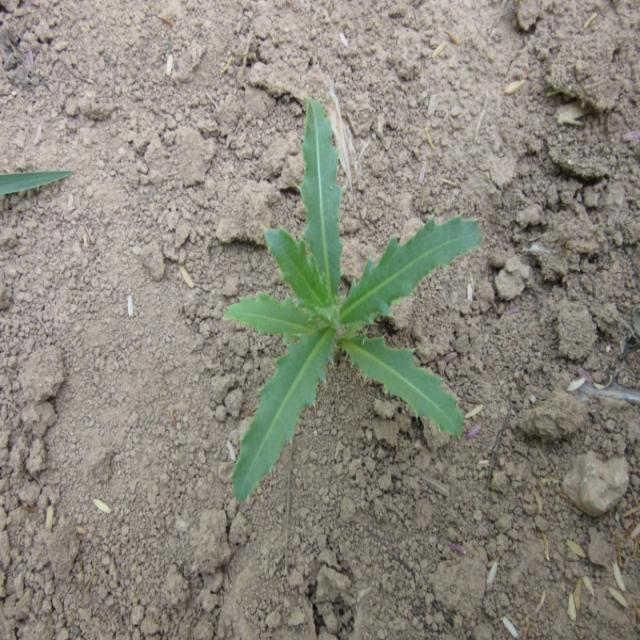field_thistle: (182, 90, 479, 508)
